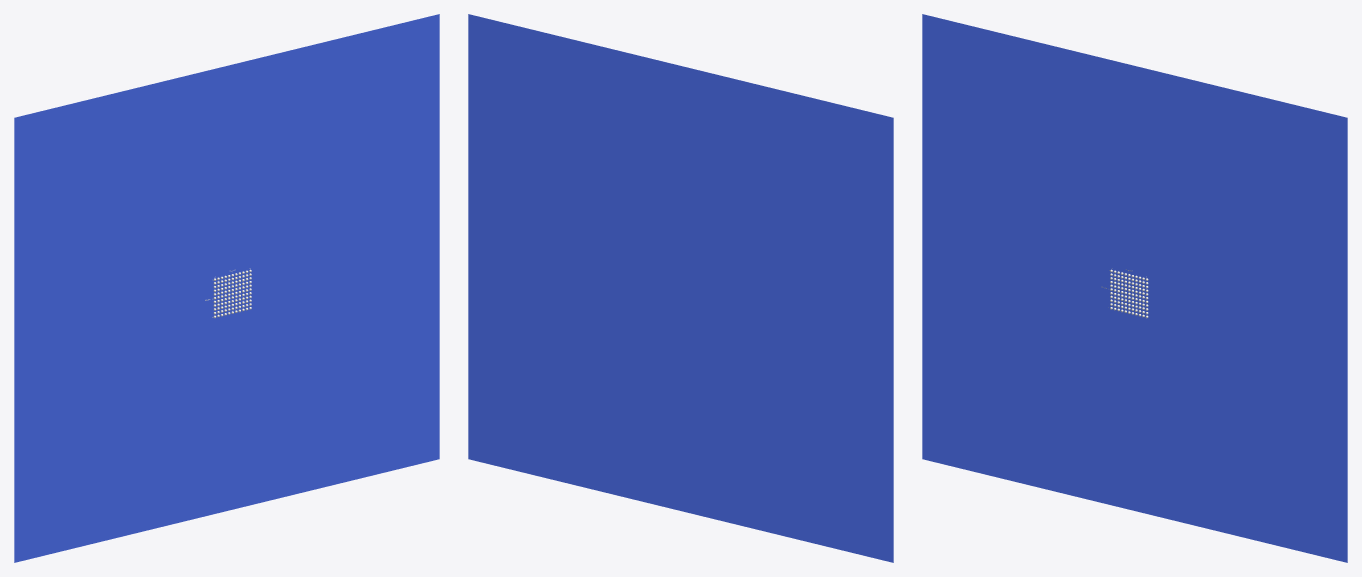
Rendered from PBR_Sphere_Plane.gltf.
3 views of the same model, side by side, from view 1: azimuth 30°, elevation 25°; view 2: azimuth 150°, elevation 25°; view 3: azimuth 330°, elevation 25° (orthographic).
Parts seen in each view (by area): view 1: 平面; view 2: 平面; view 3: 平面.
Part boxes in pixels (x1,y1,x2,y2): 平面: [14, 14, 439, 562]; 平面: [468, 14, 893, 562]; 平面: [922, 14, 1347, 562].
Bounding box in the file's own units: 359 × 359 × 9.33.
